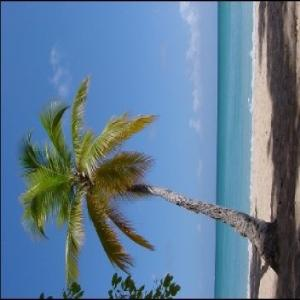palm tree: (17, 73, 159, 295)
